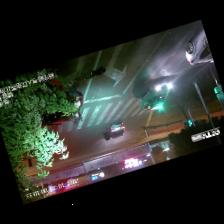person: (82, 66, 104, 79)
